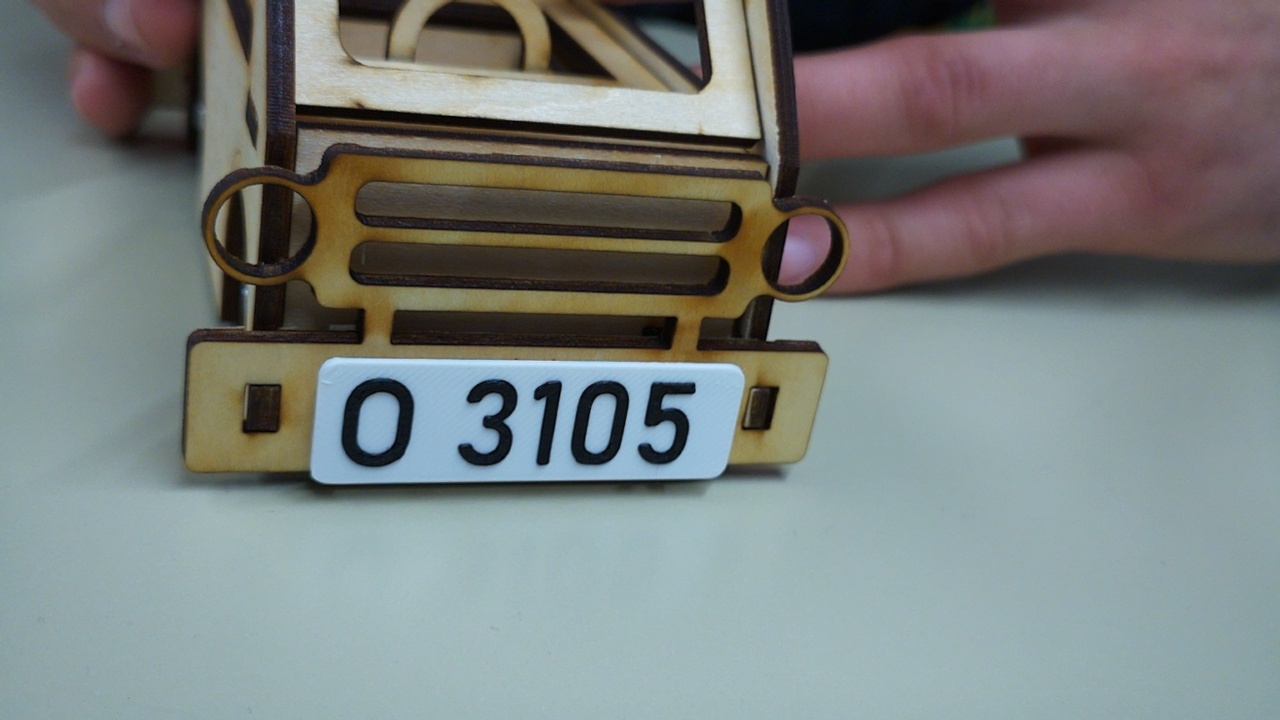license_plate: (308, 354, 749, 494)
